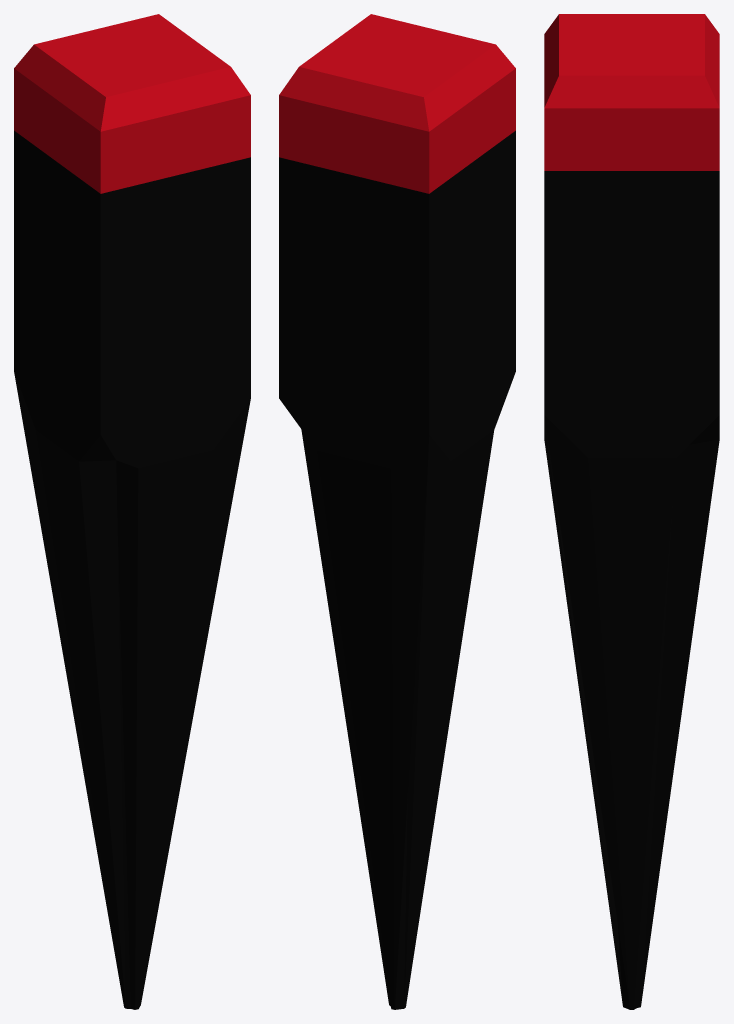
Rendered from kui.obj.
3 views of the same model, side by side, from view 1: azimuth 30°, elevation 25°; view 2: azimuth 150°, elevation 25°; view 3: azimuth 270°, elevation 25° (orthographic).
Parts seen in each view (by area): view 1: obj1; view 2: obj1; view 3: obj1.
Part boxes in pixels (box(x1,y1,x2,y2)): obj1: box(14, 14, 250, 1009); obj1: box(279, 14, 515, 1009); obj1: box(544, 14, 719, 1009).
Bounding box in the file's own units: 0.905 × 5.47 × 0.905.
